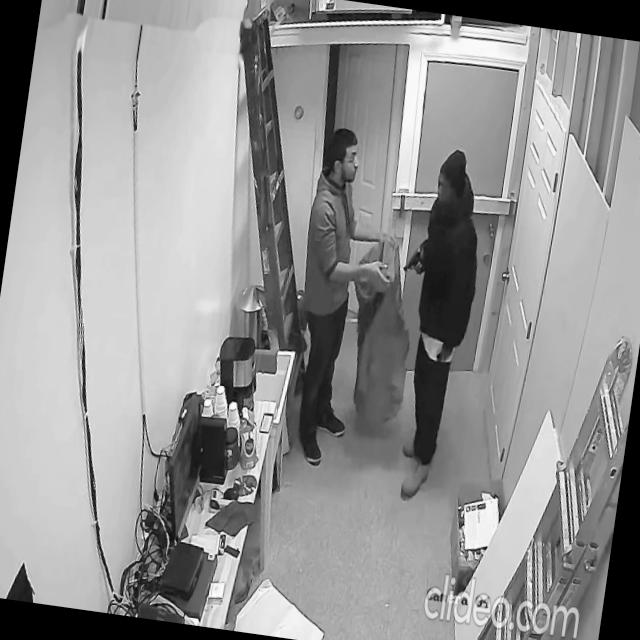gun: (402, 243, 422, 274)
person: (274, 123, 412, 474), (384, 144, 496, 506)
person with a gun: (371, 142, 495, 503)
